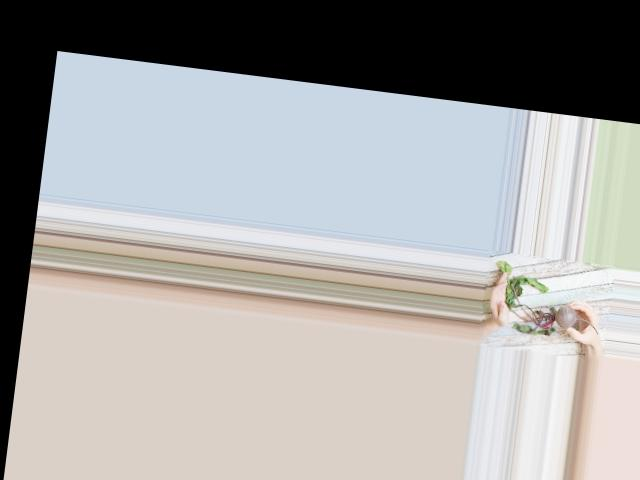beet: (489, 260, 606, 341)
